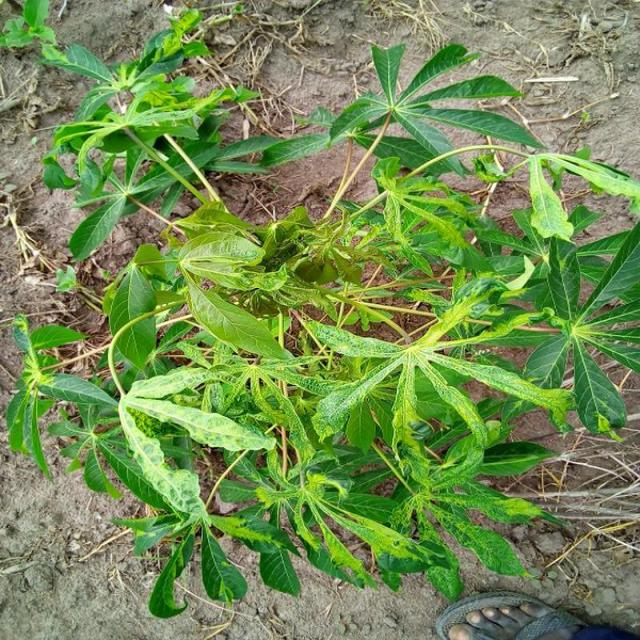cassava leaf: (8, 17, 639, 619)
